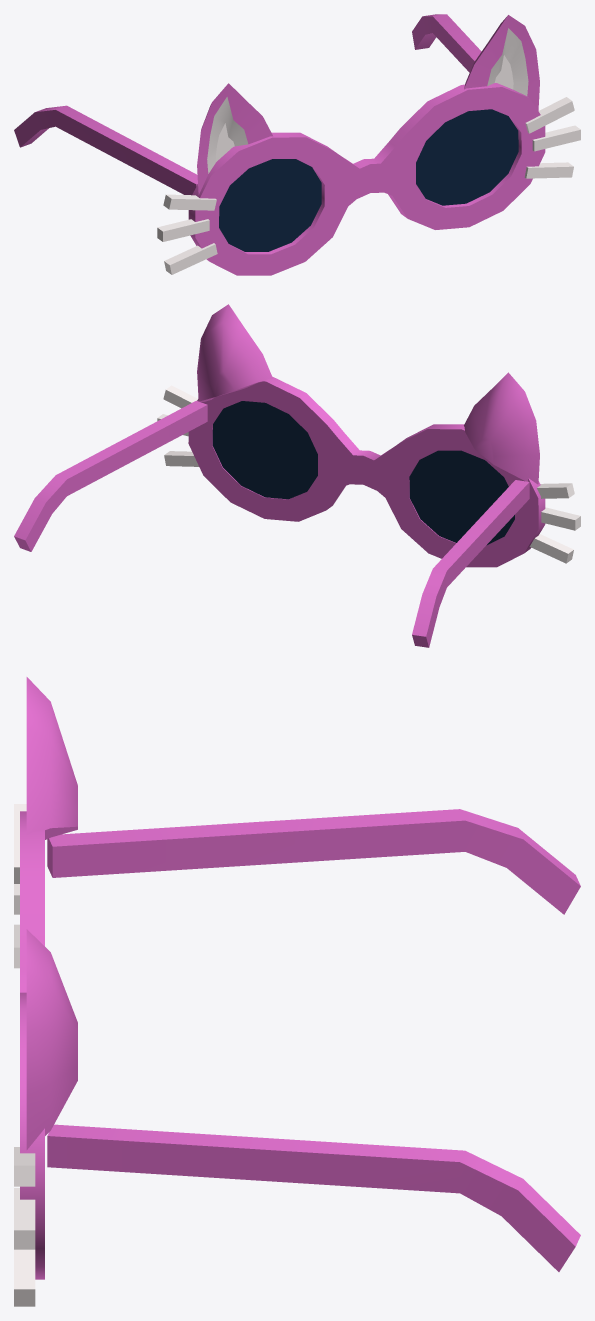
The model's file is Cat_glasses.fbx.
The picture shows the model from 3 angles, top to bottom: view 1: azimuth 30°, elevation 25°; view 2: azimuth 150°, elevation 25°; view 3: azimuth 270°, elevation 25°; orthographic projection. The views are drawn at different scales.
Visible parts, largest first — view 1: Cat_glasses.c, Glasses_stick_37, Glasses_stick_38; view 2: Cat_glasses.c, Glasses_stick_38, Glasses_stick_37; view 3: Cat_glasses.c, Glasses_stick_38, Glasses_stick_37.
Part boxes in pixels (box(x1,y1,x2,y2)): Cat_glasses.c: box(157, 15, 580, 275); Glasses_stick_37: box(14, 105, 197, 195); Glasses_stick_38: box(412, 14, 481, 72); Cat_glasses.c: box(157, 304, 580, 567); Glasses_stick_38: box(14, 400, 207, 551); Glasses_stick_37: box(412, 480, 529, 647); Cat_glasses.c: box(14, 677, 77, 1306); Glasses_stick_38: box(47, 1124, 580, 1271); Glasses_stick_37: box(47, 809, 580, 914).
Bounding box in the file's own units: 0.7171 × 0.33 × 0.4556.
